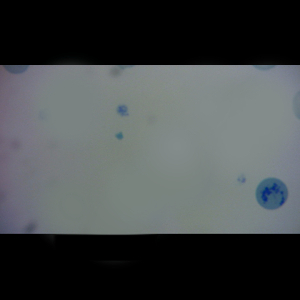aggregate reticulocyte: (254, 176, 290, 211)
